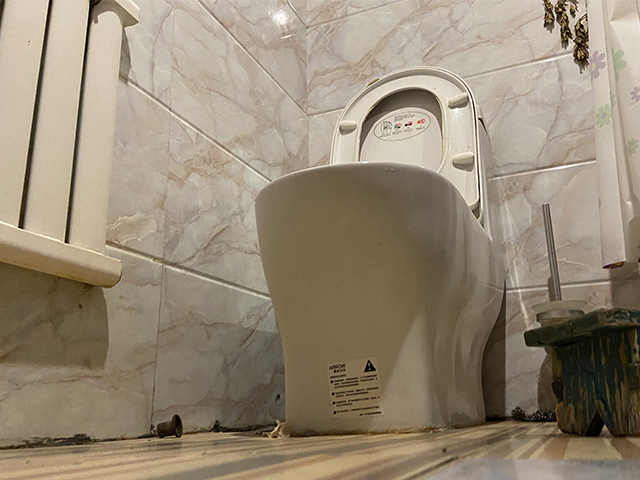closestool: (253, 65, 508, 437)
stool: (523, 305, 639, 440)
